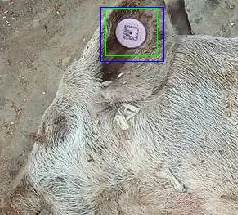text: (105, 8, 157, 55)
